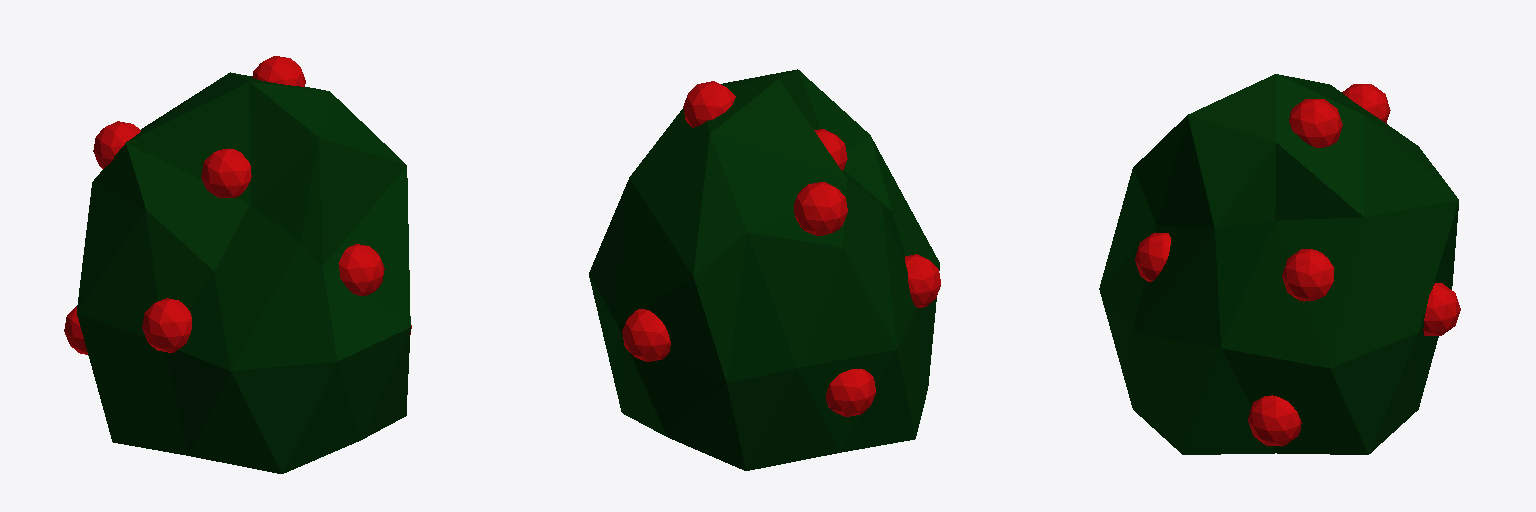
The model's file is Bush.obj.
3 views of the same model, side by side, from view 1: azimuth 30°, elevation 25°; view 2: azimuth 150°, elevation 25°; view 3: azimuth 270°, elevation 25° (orthographic).
Visible parts, largest first — view 1: Icosphere, Icosphere.008, Icosphere.009, Icosphere.002, Icosphere.005, Icosphere.006, Icosphere.007; view 2: Icosphere, Icosphere.005, Icosphere.003, Icosphere.007, Icosphere.006, Icosphere.008, Icosphere.009; view 3: Icosphere, Icosphere.004, Icosphere.001, Icosphere.006, Icosphere.003, Icosphere.002, Icosphere.005.
Boxes of the visible parts, box(x1,y1,x2,y2) form: Icosphere: box(77, 72, 410, 473); Icosphere.008: box(142, 298, 191, 352); Icosphere.009: box(201, 148, 251, 197); Icosphere.002: box(339, 244, 384, 295); Icosphere.005: box(93, 121, 140, 168); Icosphere.006: box(252, 56, 305, 86); Icosphere.007: box(64, 306, 87, 354); Icosphere: box(589, 69, 939, 470); Icosphere.005: box(794, 182, 847, 235); Icosphere.003: box(622, 309, 670, 361); Icosphere.007: box(826, 369, 875, 416); Icosphere.006: box(683, 81, 735, 127); Icosphere.008: box(905, 254, 940, 307); Icosphere.009: box(814, 129, 847, 170); Icosphere: box(1099, 74, 1458, 454); Icosphere.004: box(1282, 249, 1333, 301); Icosphere.001: box(1248, 395, 1301, 445); Icosphere.006: box(1289, 99, 1342, 147); Icosphere.003: box(1423, 283, 1460, 335); Icosphere.002: box(1135, 233, 1170, 281); Icosphere.005: box(1342, 84, 1390, 123).
Size of the model in its own units: 2.02 by 2.22 by 2.05.